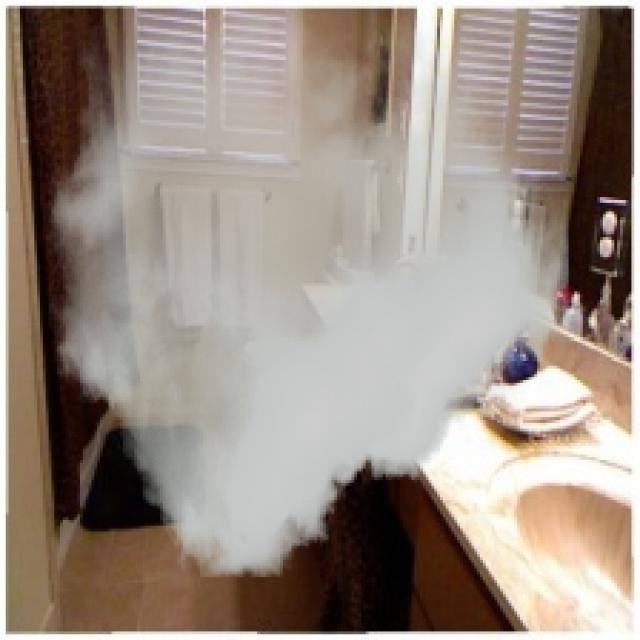smoke: (49, 14, 568, 577)
